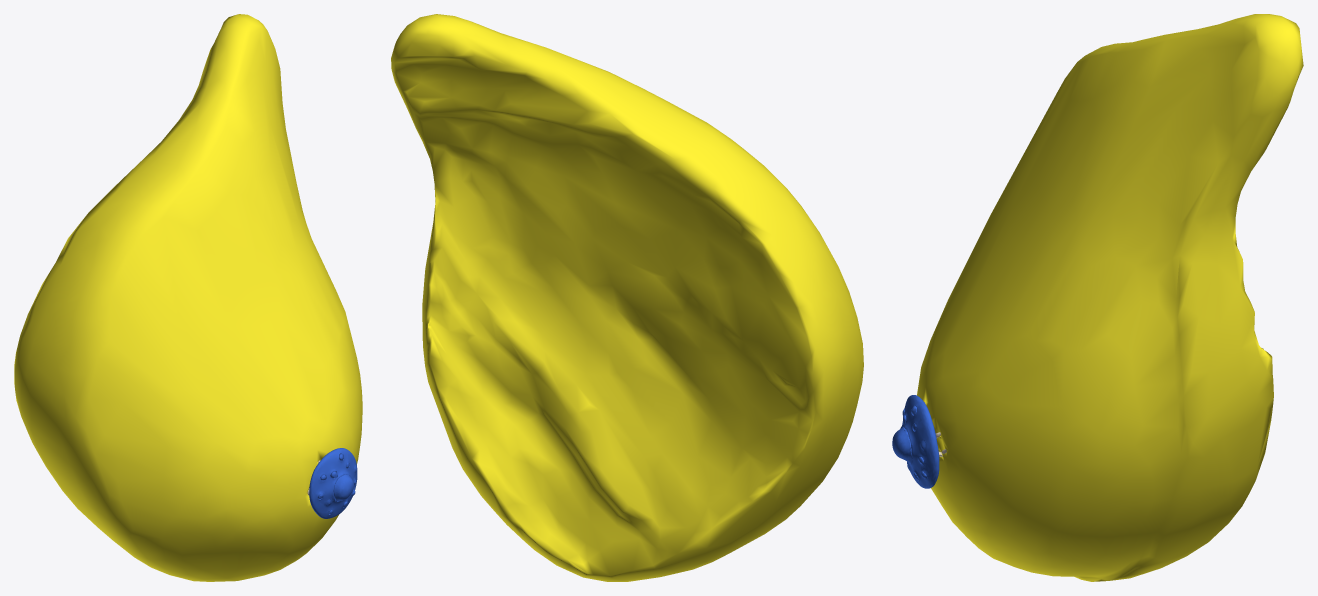
The model's file is 3d-vh-f-mammary-gland-l-20.glb.
3 renders of one model, left to right at view 1: azimuth 30°, elevation 25°; view 2: azimuth 150°, elevation 25°; view 3: azimuth 270°, elevation 25°, orthographic. The views are drawn at different scales.
Visible parts, largest first — view 1: VH_F_fat_L, VH_F_areola_L; view 2: VH_F_fat_L; view 3: VH_F_fat_L, VH_F_areola_L, VH_F_nipple_L.
Boxes of the visible parts, x1,y1,x2,y2 form: VH_F_fat_L: (14, 14, 362, 581); VH_F_areola_L: (309, 448, 357, 518); VH_F_fat_L: (391, 14, 863, 581); VH_F_fat_L: (917, 14, 1303, 581); VH_F_areola_L: (900, 395, 939, 488); VH_F_nipple_L: (892, 427, 912, 463).
Size of the model in its own units: 0.1281 by 0.1819 by 0.1119.
